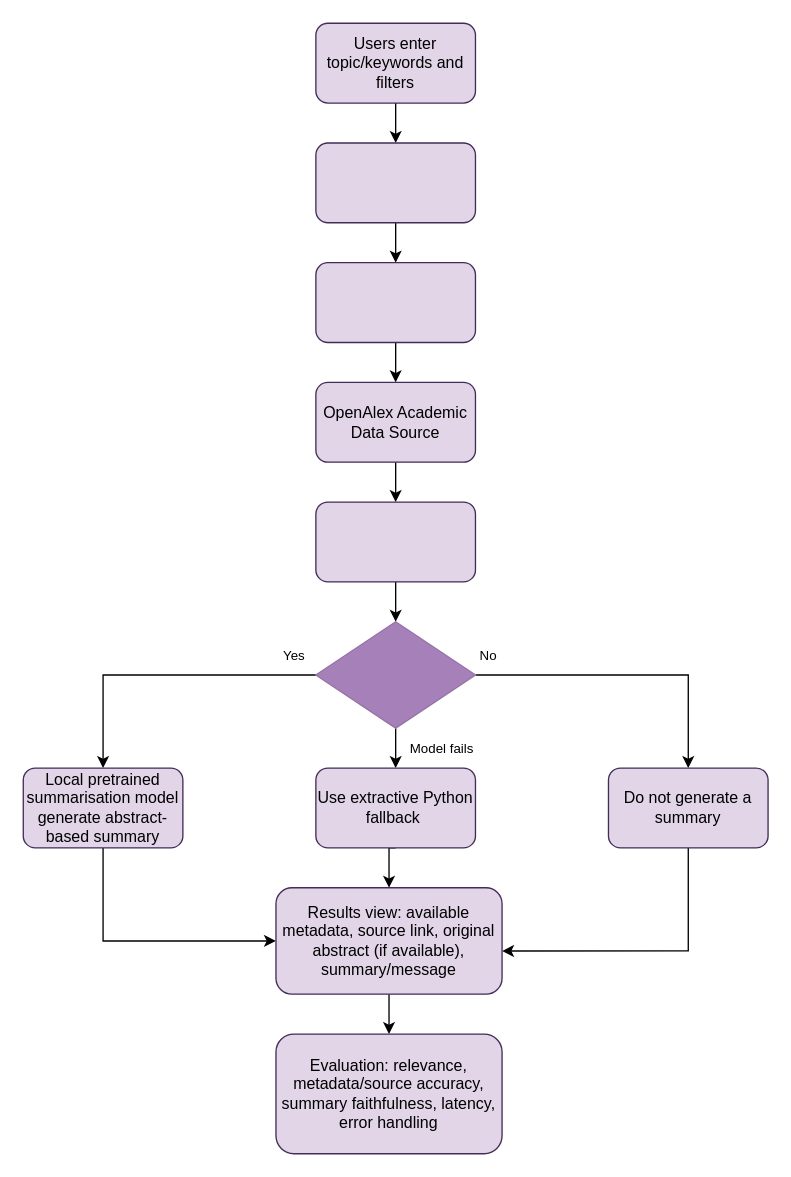
The diagram is 791 pixels wide and 1177 high, and some of its shapes have lost their labels. The box of each missing label's shape, as (x1, y1, x2, y2) in pixels:
Abstract available?: (315, 620, 475, 728)
Format results and check abstract availability: (315, 501, 475, 582)
Interface search: (315, 142, 475, 223)
Search Orchestration: apply filters and handle API errors: (315, 261, 475, 342)
